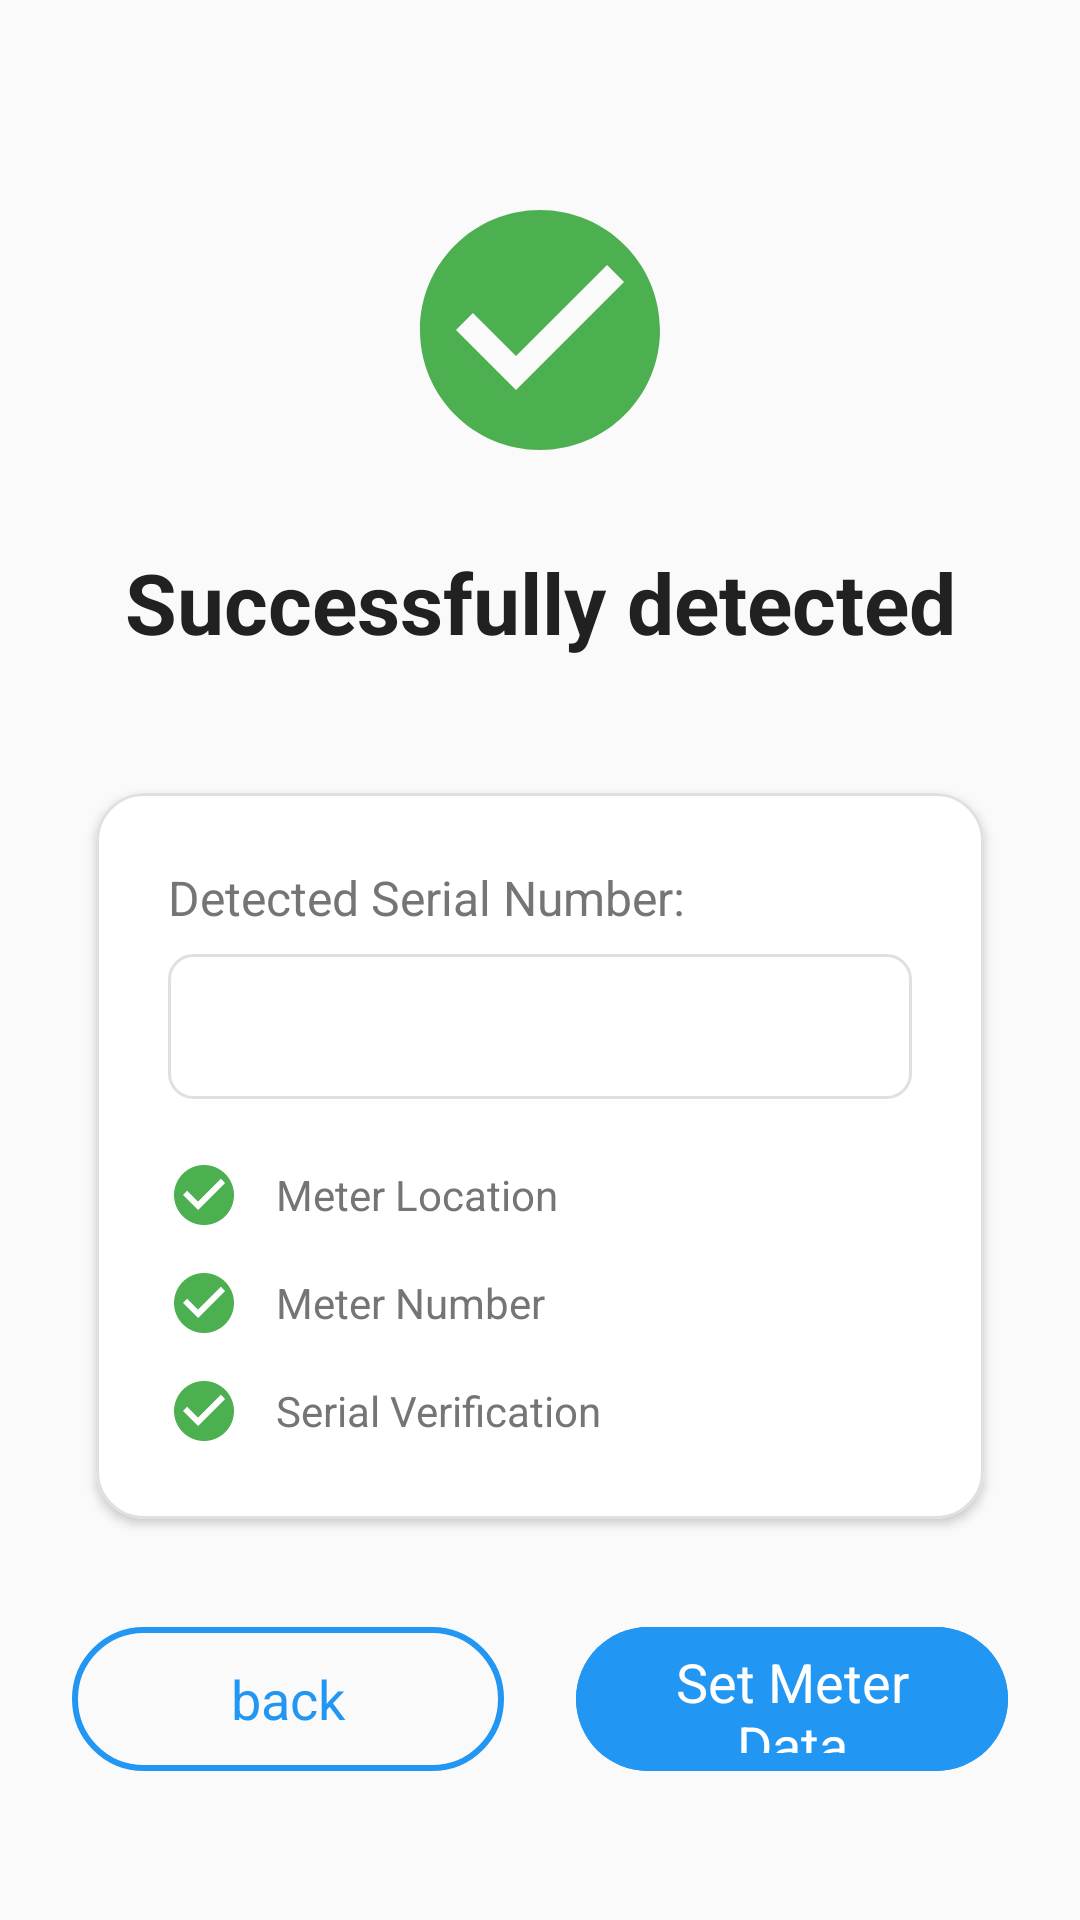

Named icons in this screenshot (1080x1920) and their bounding boxes, {"left": x1, "top": y1, "right": x2, "bottom": y2}:
Detection Status: {"left": 420, "top": 210, "right": 660, "bottom": 450}
Location Status: {"left": 174, "top": 1165, "right": 234, "bottom": 1225}
Number Status: {"left": 174, "top": 1273, "right": 234, "bottom": 1333}
Serial Status: {"left": 174, "top": 1381, "right": 234, "bottom": 1441}
